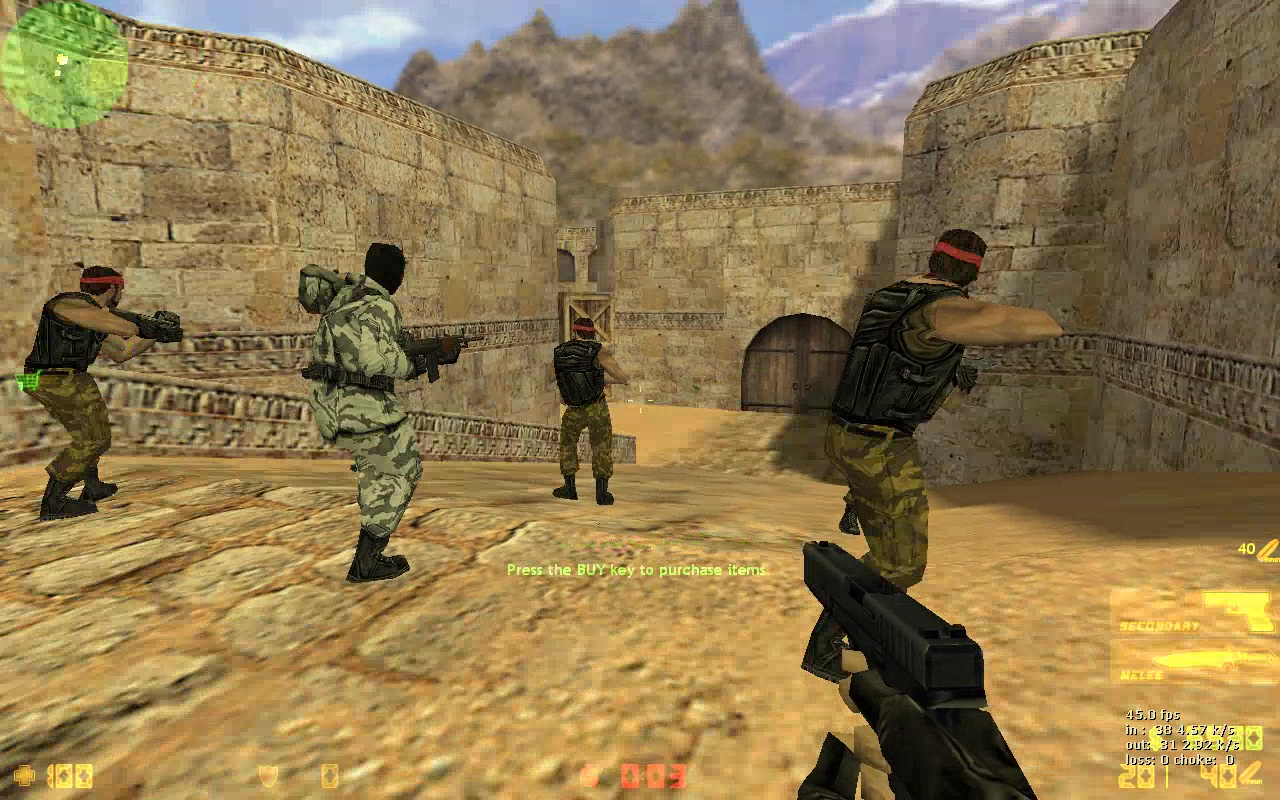terr1: (799, 228, 1064, 681), (14, 263, 185, 525), (543, 317, 634, 504)
terr2: (291, 239, 477, 586)
